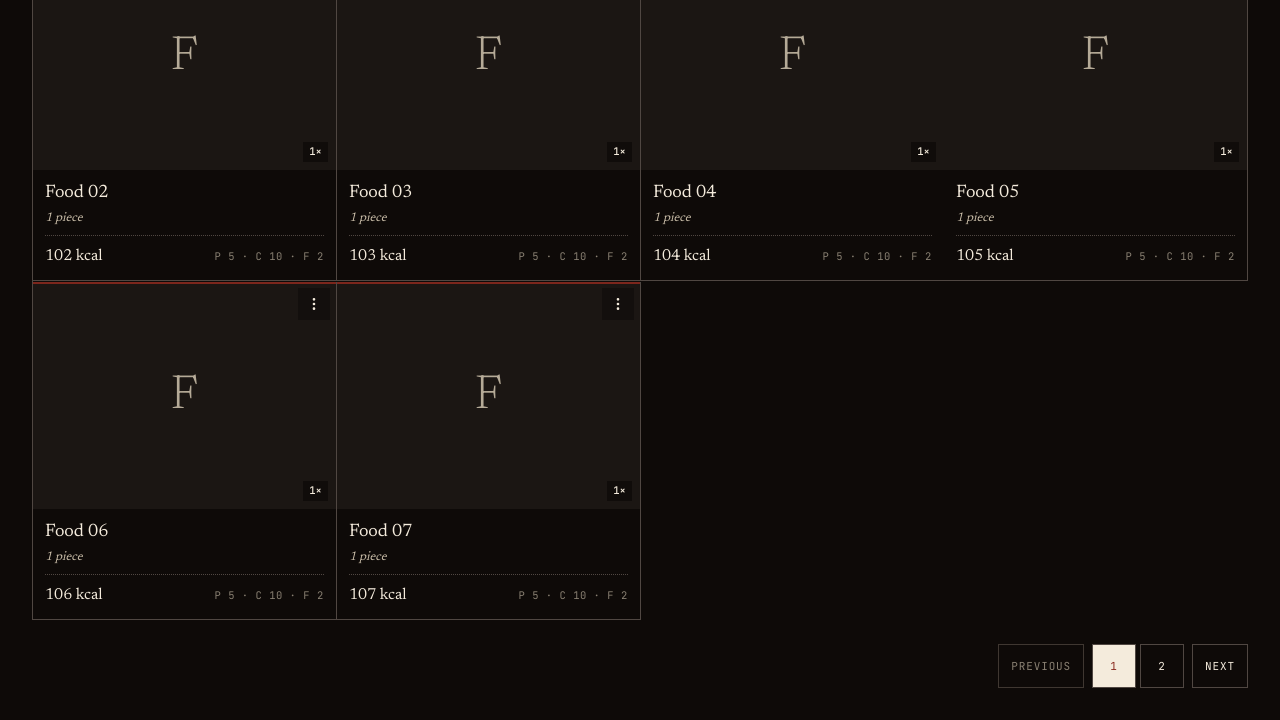
Scenario: <LibraryClient /> pagination › filters first, hides pagination when filtered results fit on one page, and renders no empty cards
(page scrolled)
Click the button with test id "library-pagination-next" at (1220, 666), box [1192, 644, 1248, 688]
(page scrolled)
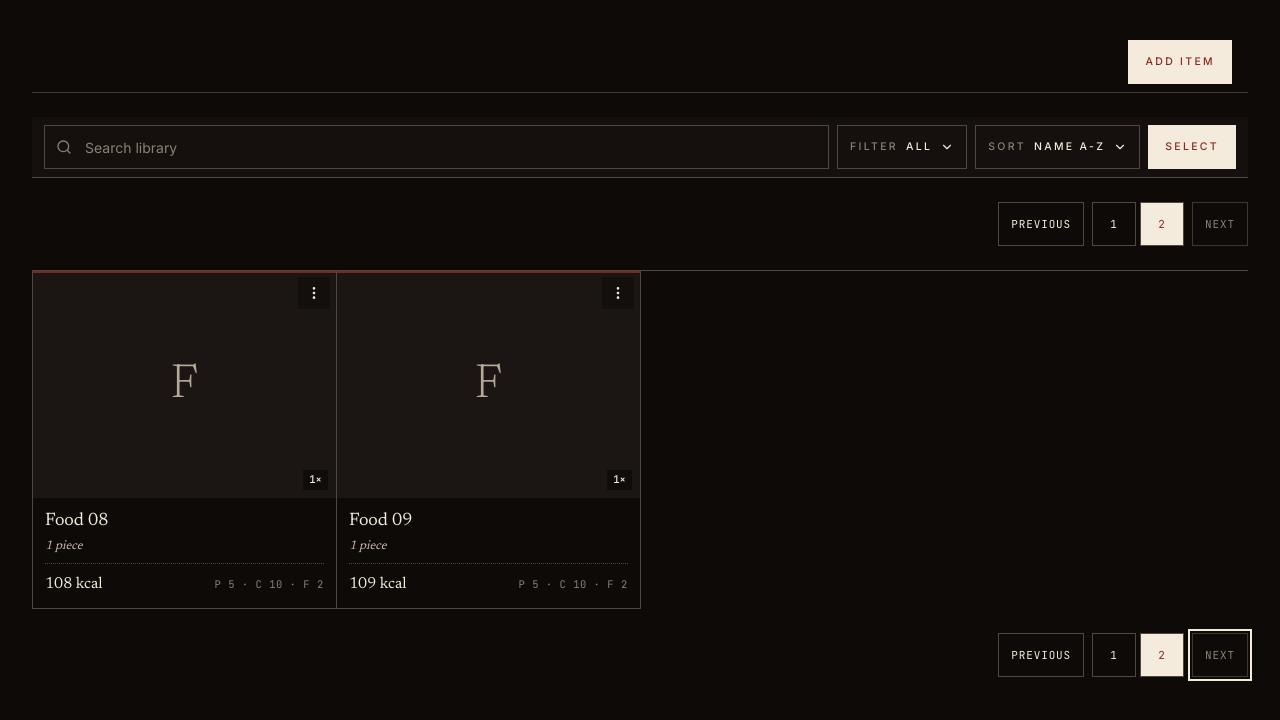
Expected: the element with test id "library-card-item-8" is shown, [33, 271, 336, 608]
Type "apple" into the search field with test id "library-search-input" at (437, 147), box [44, 125, 829, 169]
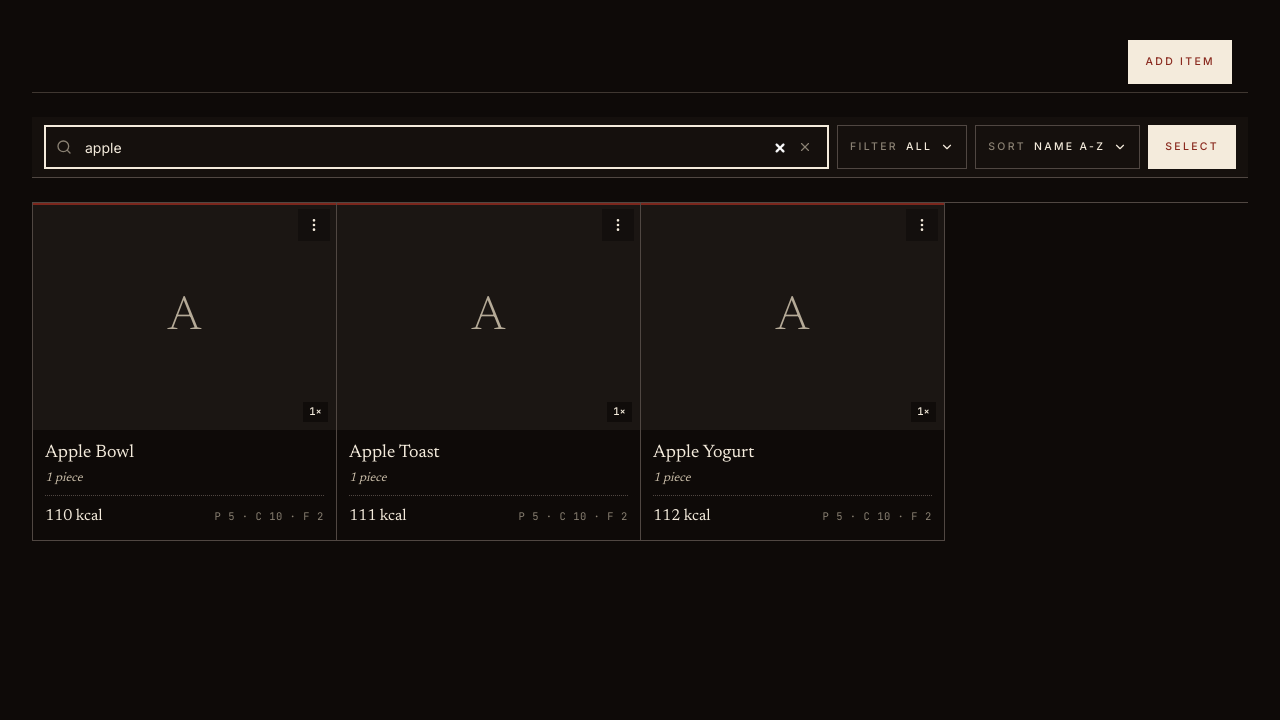
Expected: the navigation bar with test id "library-pagination" is gone
Expected: the element with test id "library-card-item-10" is shown, [33, 203, 336, 540]
Expected: the element with test id "library-card-item-11" is shown, [337, 203, 640, 540]
